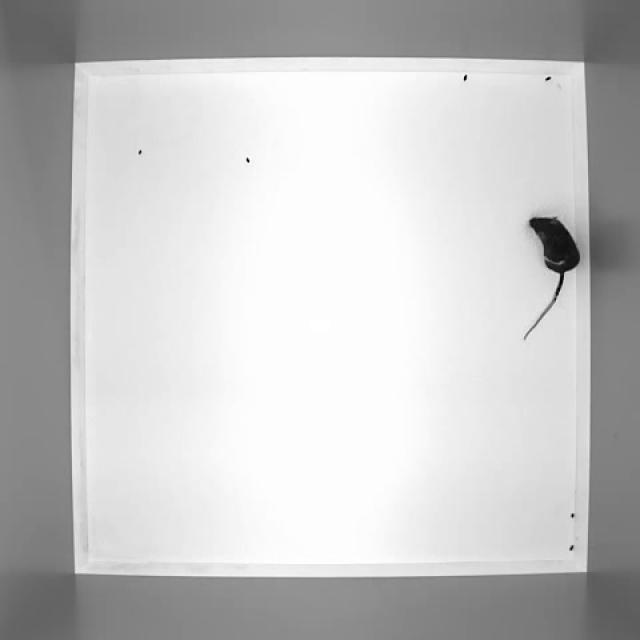rat: (524, 209, 583, 348)
